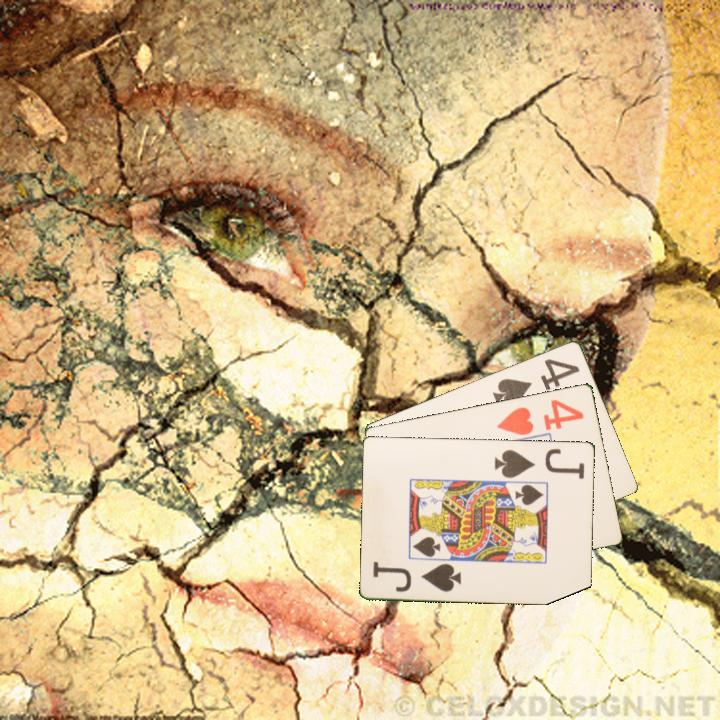4h: (494, 395, 587, 438)
4s: (489, 355, 583, 409)
Js: (491, 445, 588, 481), (370, 558, 464, 595)
